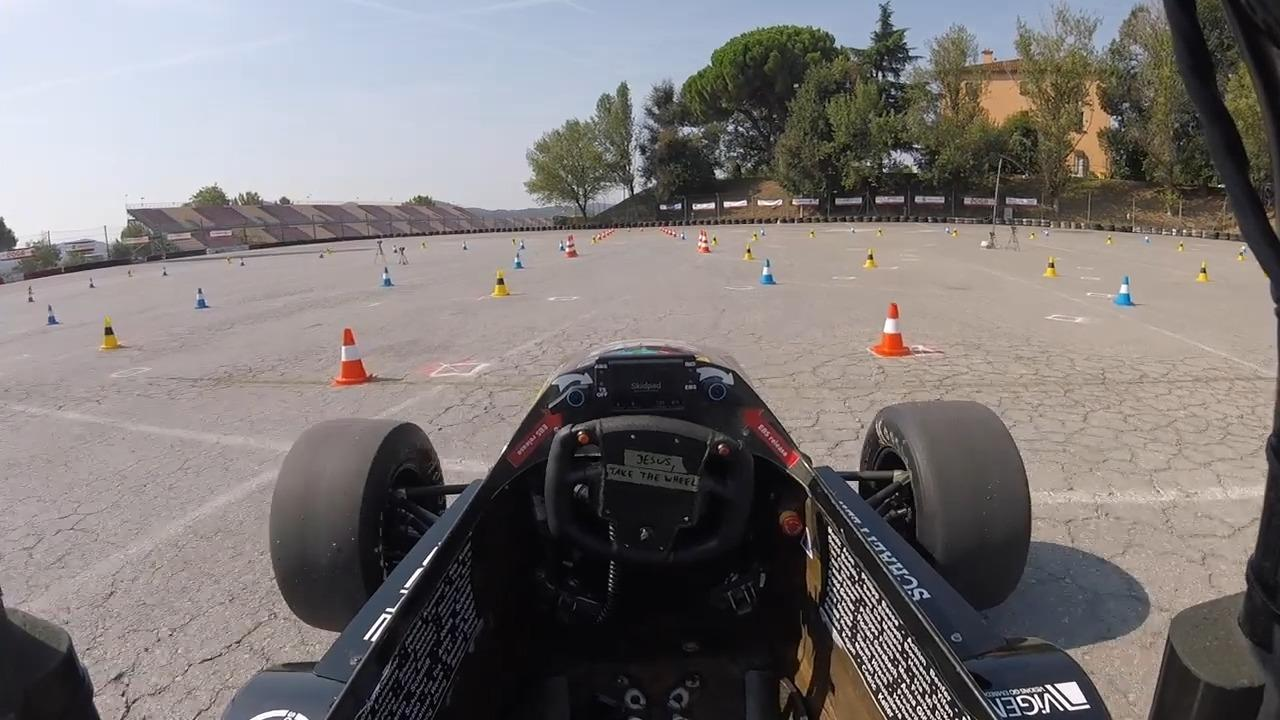blue_cone: (1113, 276, 1133, 306), (760, 258, 776, 285), (195, 287, 208, 311), (382, 267, 396, 286), (46, 305, 58, 327), (514, 253, 524, 269), (26, 292, 35, 304), (162, 266, 169, 277), (559, 241, 566, 251), (519, 240, 526, 250), (462, 241, 469, 250), (90, 278, 95, 289), (1145, 235, 1151, 244), (1241, 244, 1247, 253), (240, 258, 246, 266), (760, 228, 766, 236), (1044, 229, 1050, 237), (319, 250, 324, 259), (681, 232, 686, 240), (850, 226, 855, 234), (946, 226, 950, 233)
large_orange_cone: (701, 232, 711, 254), (565, 235, 574, 258), (569, 235, 578, 257), (696, 229, 705, 251)
orange_cone: (867, 304, 910, 358), (334, 330, 371, 386), (597, 233, 602, 241), (668, 229, 673, 237), (602, 232, 607, 239), (672, 231, 677, 238)
yellow_cone: (100, 317, 126, 353), (490, 269, 511, 297), (1196, 260, 1210, 283), (1044, 257, 1059, 278), (863, 249, 878, 269), (743, 245, 755, 261), (711, 235, 720, 247), (751, 231, 759, 243), (1237, 248, 1244, 261), (27, 284, 34, 295), (1177, 241, 1184, 252), (1107, 234, 1114, 245), (951, 227, 959, 236), (127, 269, 134, 278), (809, 229, 816, 238), (876, 228, 883, 237), (591, 235, 597, 244), (1029, 232, 1035, 241), (327, 248, 332, 258), (512, 237, 517, 246), (227, 258, 232, 266), (422, 242, 426, 249)
